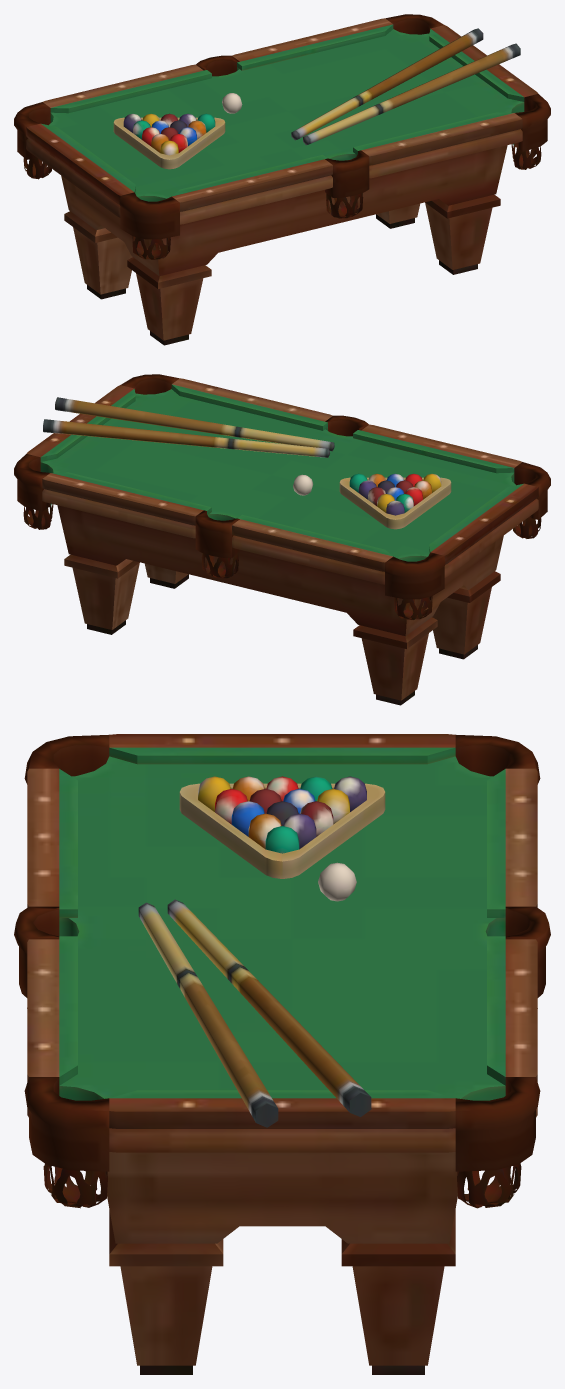
3 renders of one model, top to bottom at view 1: azimuth 30°, elevation 25°; view 2: azimuth 150°, elevation 25°; view 3: azimuth 270°, elevation 25°, orthographic. The views are drawn at different scales.
Size of the model in its own units: 17.25 by 6.82 by 9.84.
1 material, 1 textured.
